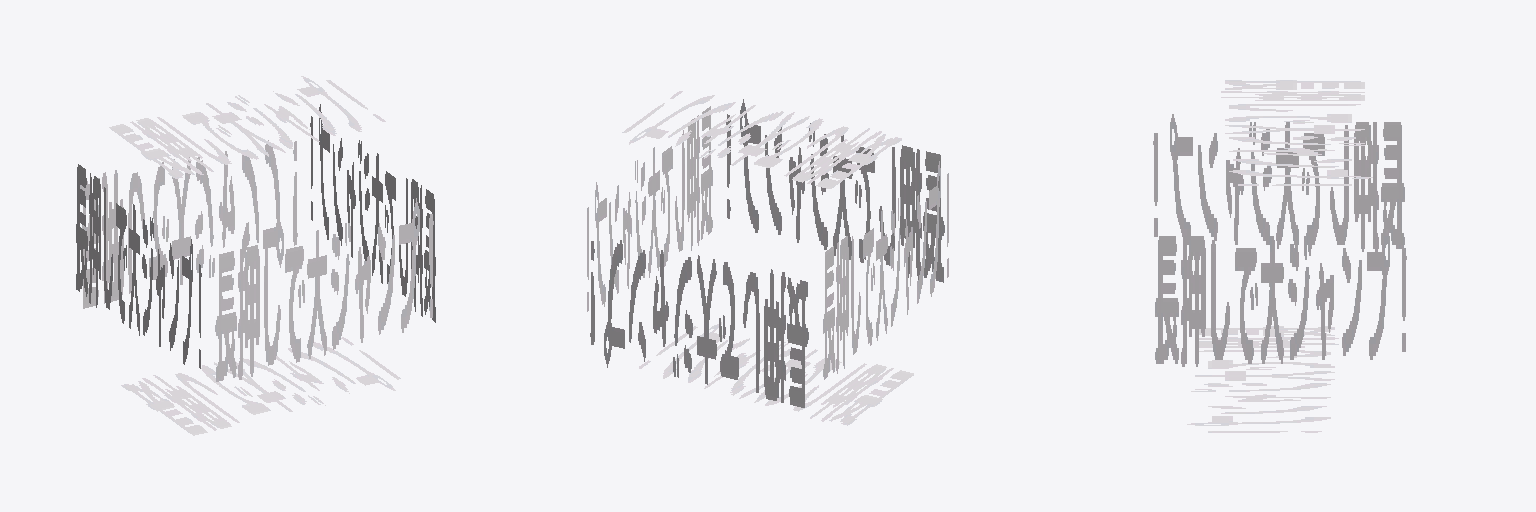
3 views of the same model, side by side, from view 1: azimuth 30°, elevation 25°; view 2: azimuth 150°, elevation 25°; view 3: azimuth 270°, elevation 25° (orthographic).
Parts seen in each view (by area): view 1: LongJumpLogo; view 2: LongJumpLogo; view 3: LongJumpLogo.
Boxes of the visible parts, x1=… form: LongJumpLogo: x1=76, y1=76, x2=435, y2=435; LongJumpLogo: x1=587, y1=91, x2=948, y2=425; LongJumpLogo: x1=1153, y1=80, x2=1406, y2=432.
Bounding box in the file's own units: 2 × 2 × 2.
1 materials, 1 textured.